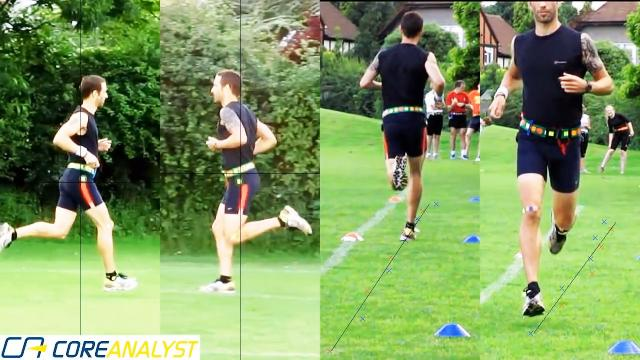berlari: (494, 0, 616, 328), (0, 68, 136, 294), (190, 58, 314, 298), (352, 1, 450, 243)
